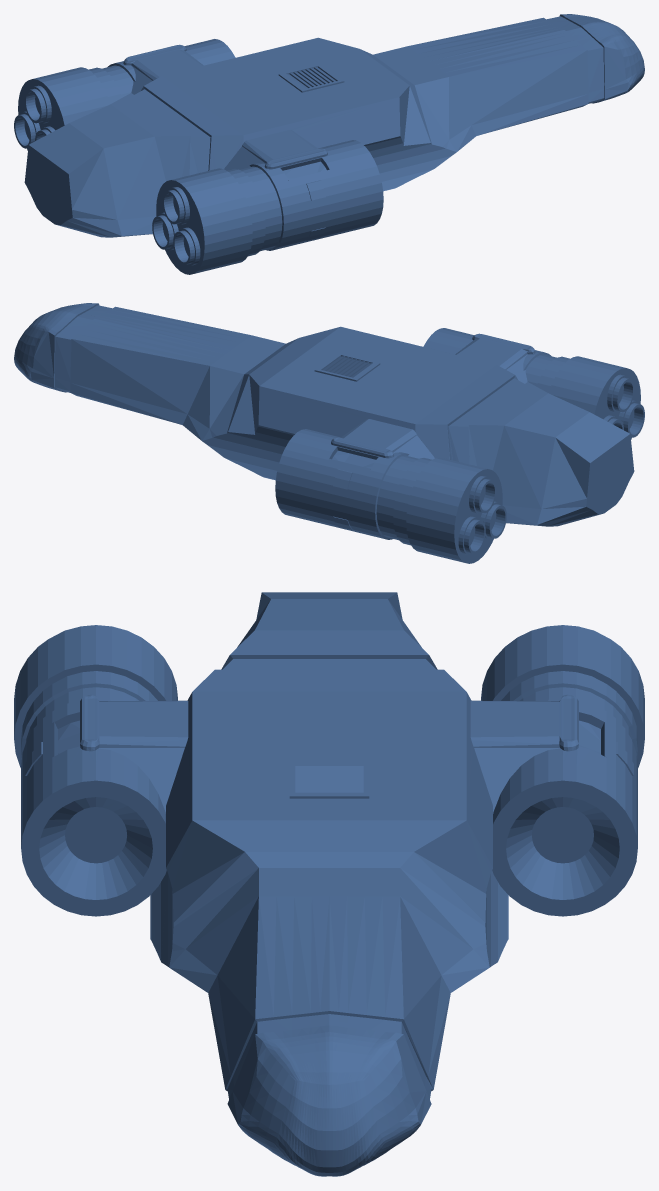
File: ftl-kestrel.glb
3 renders of one model, top to bottom at view 1: azimuth 30°, elevation 25°; view 2: azimuth 150°, elevation 25°; view 3: azimuth 270°, elevation 25°, orthographic. The views are drawn at different scales.
Visible parts, largest first — view 1: Kestrel-3D-Print_fixed; view 2: Kestrel-3D-Print_fixed; view 3: Kestrel-3D-Print_fixed.
Boxes of the visible parts, x1,y1,x2,y2 form: Kestrel-3D-Print_fixed: (14, 14, 644, 274); Kestrel-3D-Print_fixed: (14, 303, 644, 563); Kestrel-3D-Print_fixed: (14, 592, 644, 1176).
Bounding box in the file's own units: 124 × 19.6 × 67.85.
